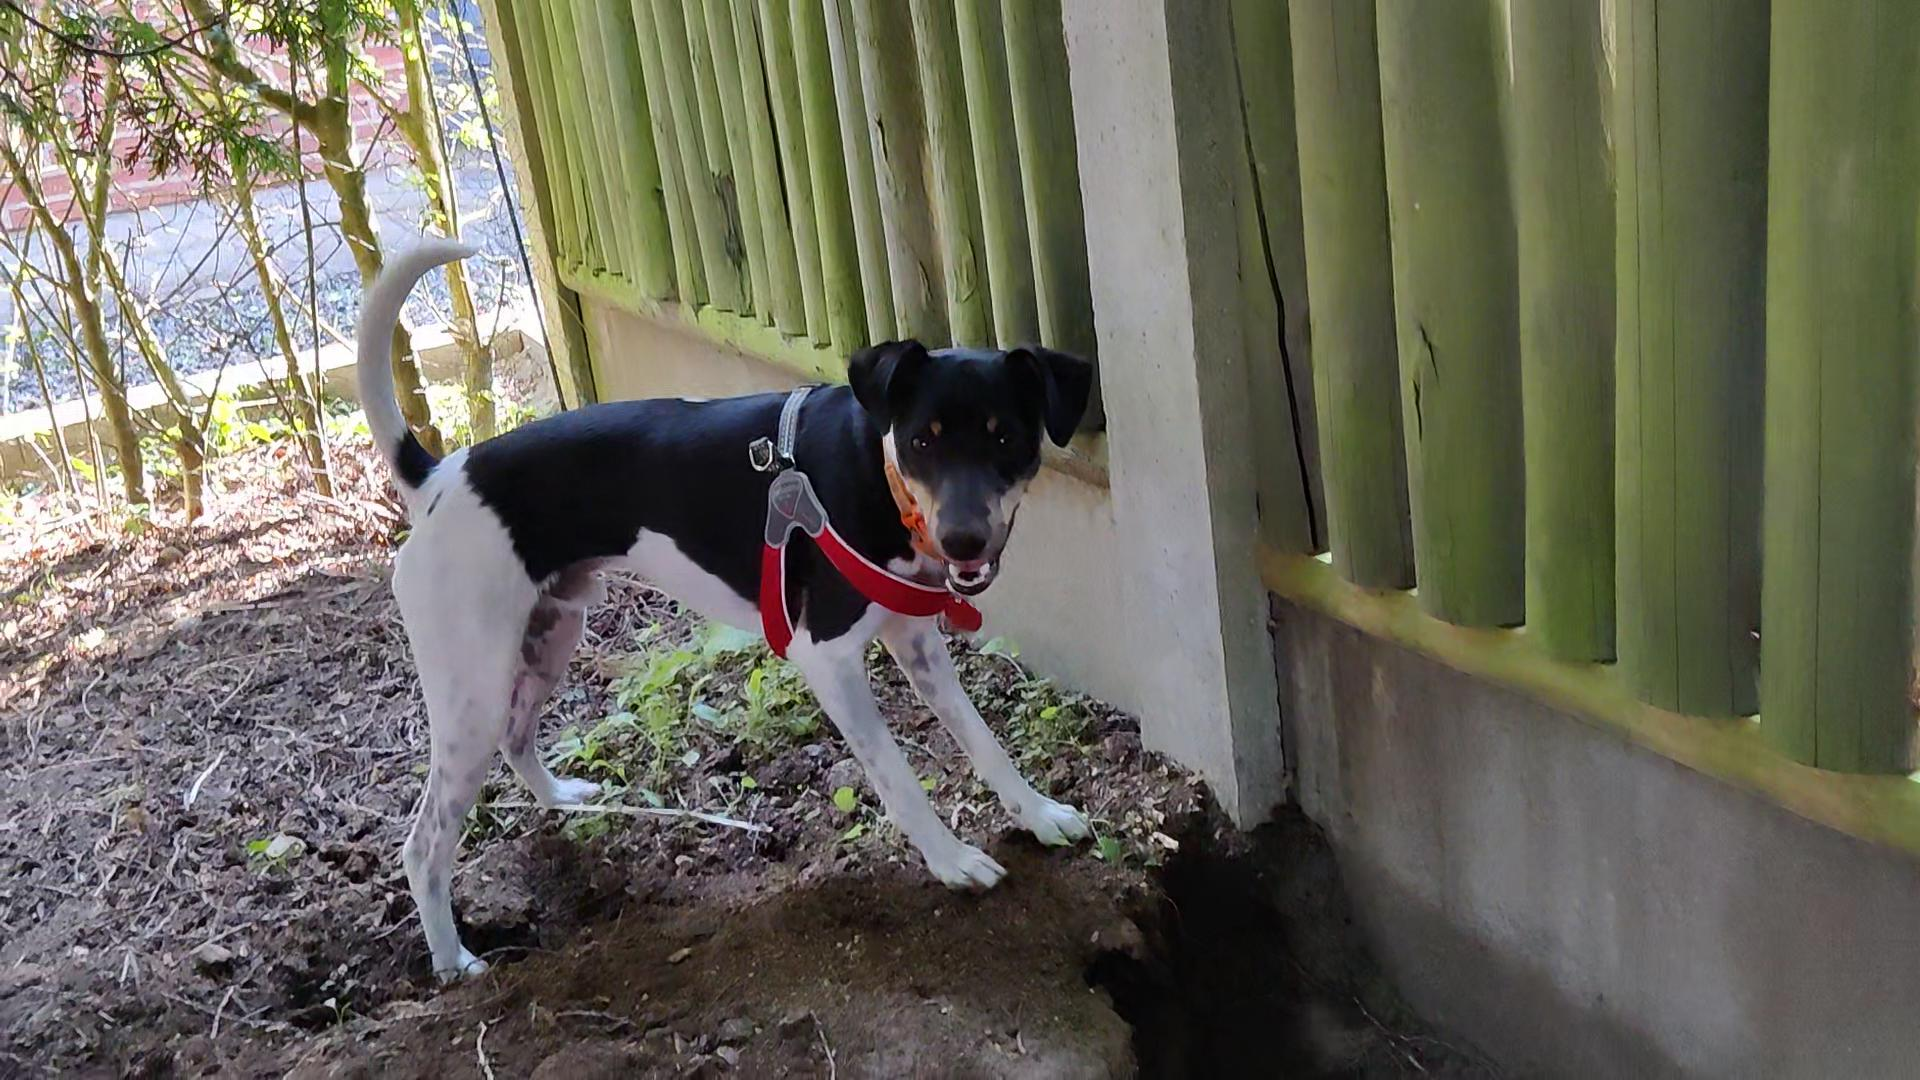Dog: (334, 208, 1127, 1000)
